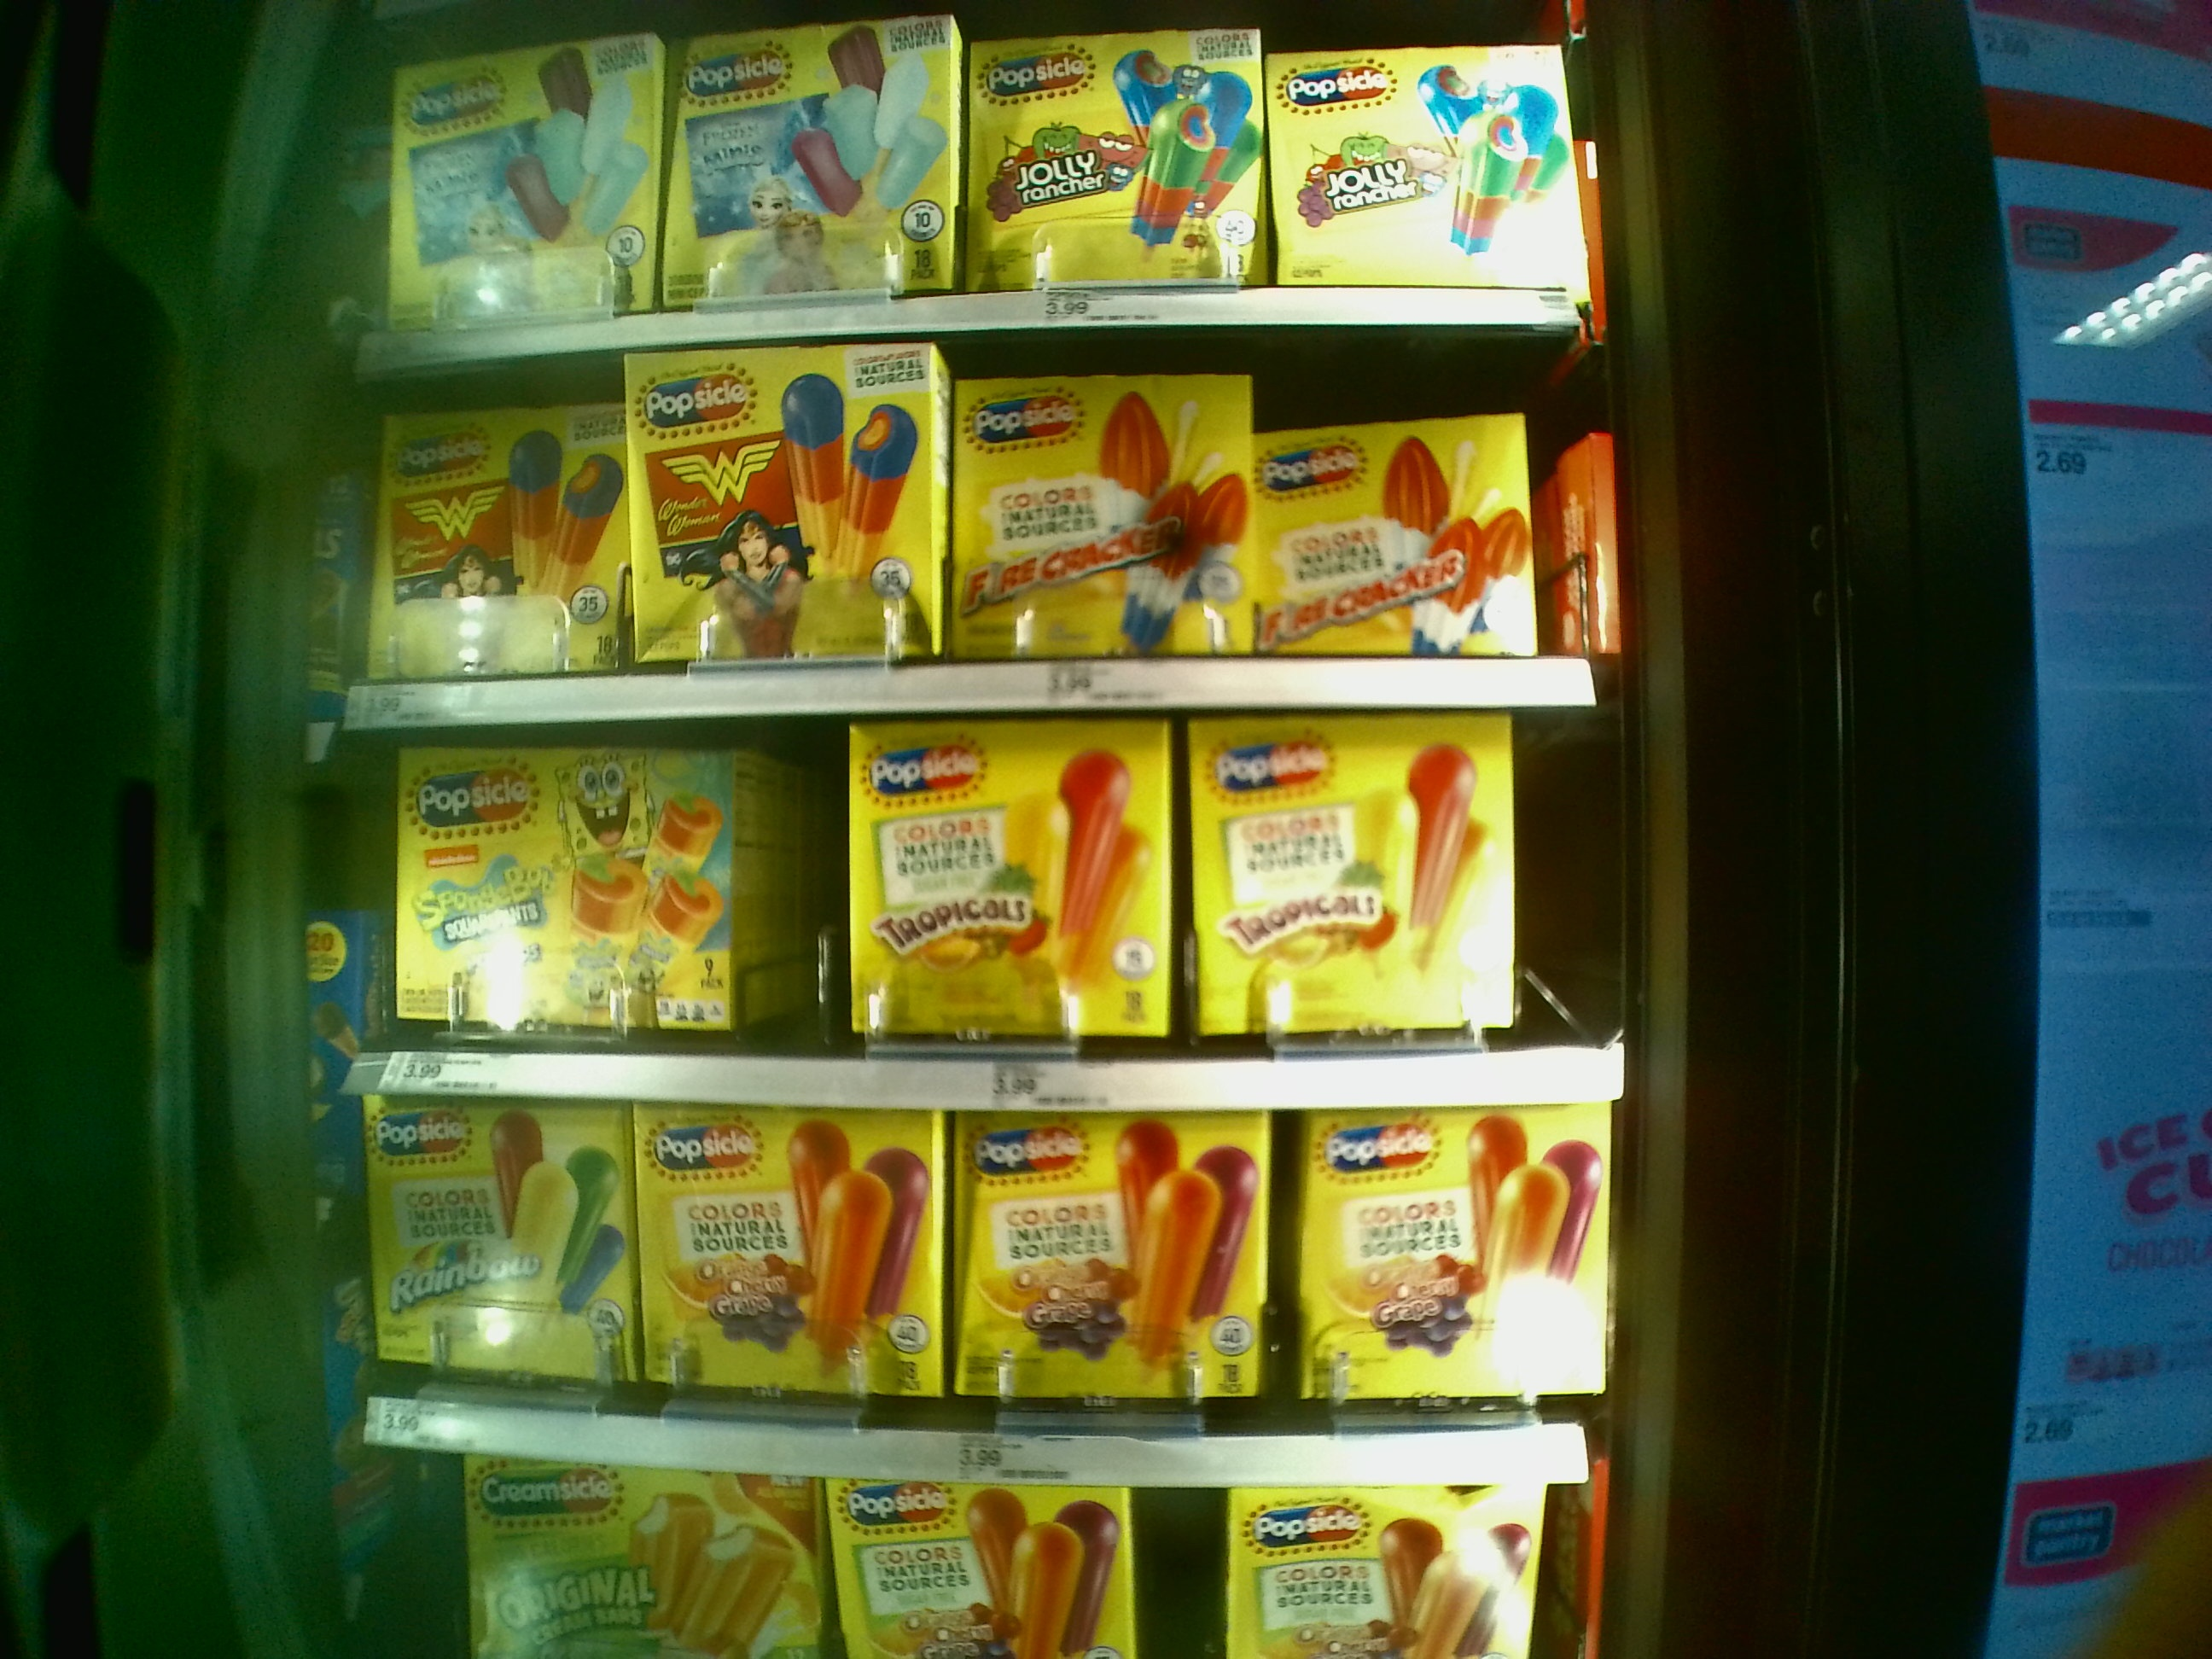shelf: (334, 340, 1599, 714), (352, 721, 1627, 1093), (364, 1086, 1599, 1467)
